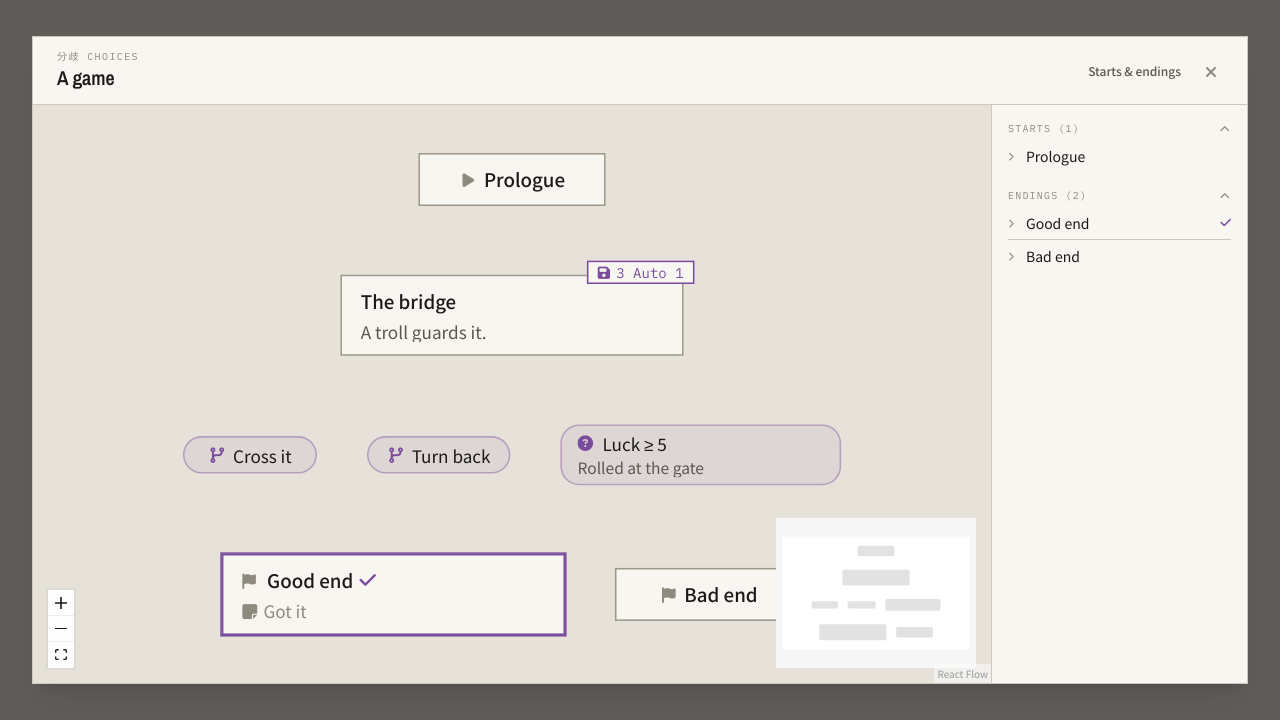
Test case: ChoiceGraphModal › opens a branch from its pill or from its block's drawer
Click the element with test id "choice-branch-b-luck": [701, 455] box [560, 424, 841, 485]
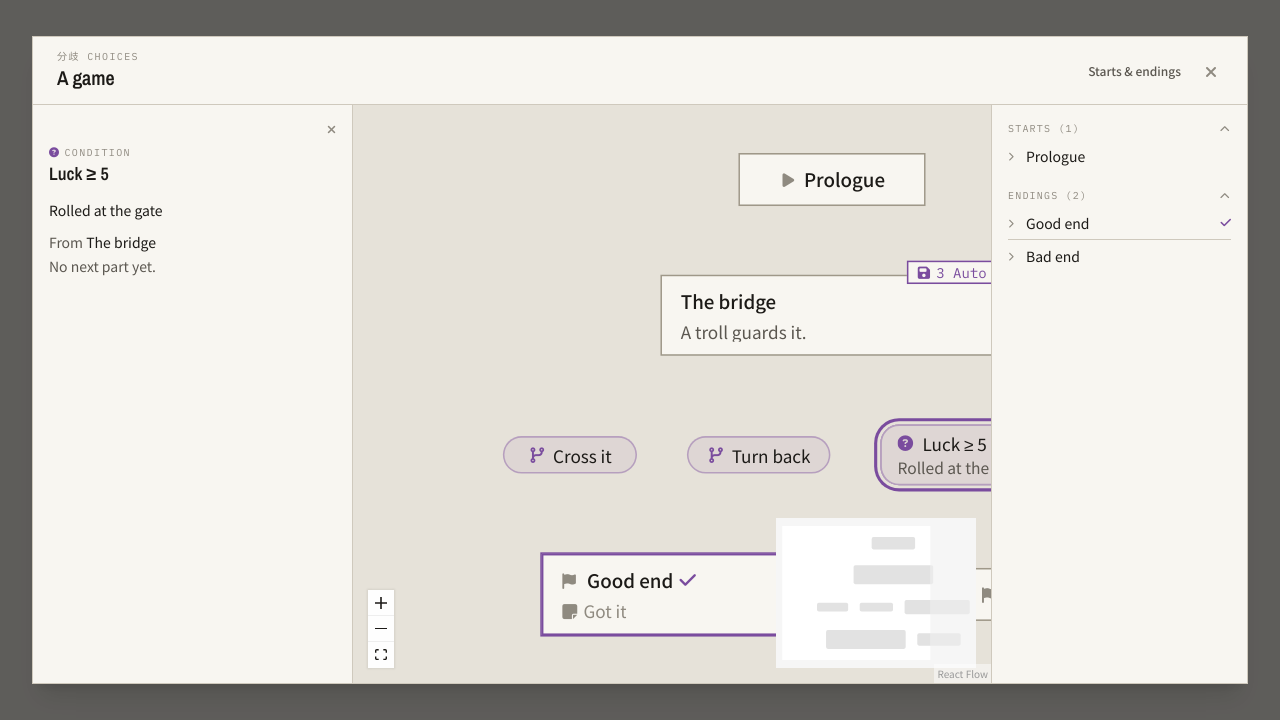
expect the text "Condition" is shown: met, box [49, 146, 131, 159]
expect the heading "Luck ≥ 5" is shown: met, box [49, 161, 109, 186]
expect the text "Rolled at the gate" is shown: met, box [49, 200, 162, 220]
Click the element with test id "choice-node-n-bridge": [832, 315] box [660, 275, 1004, 356]
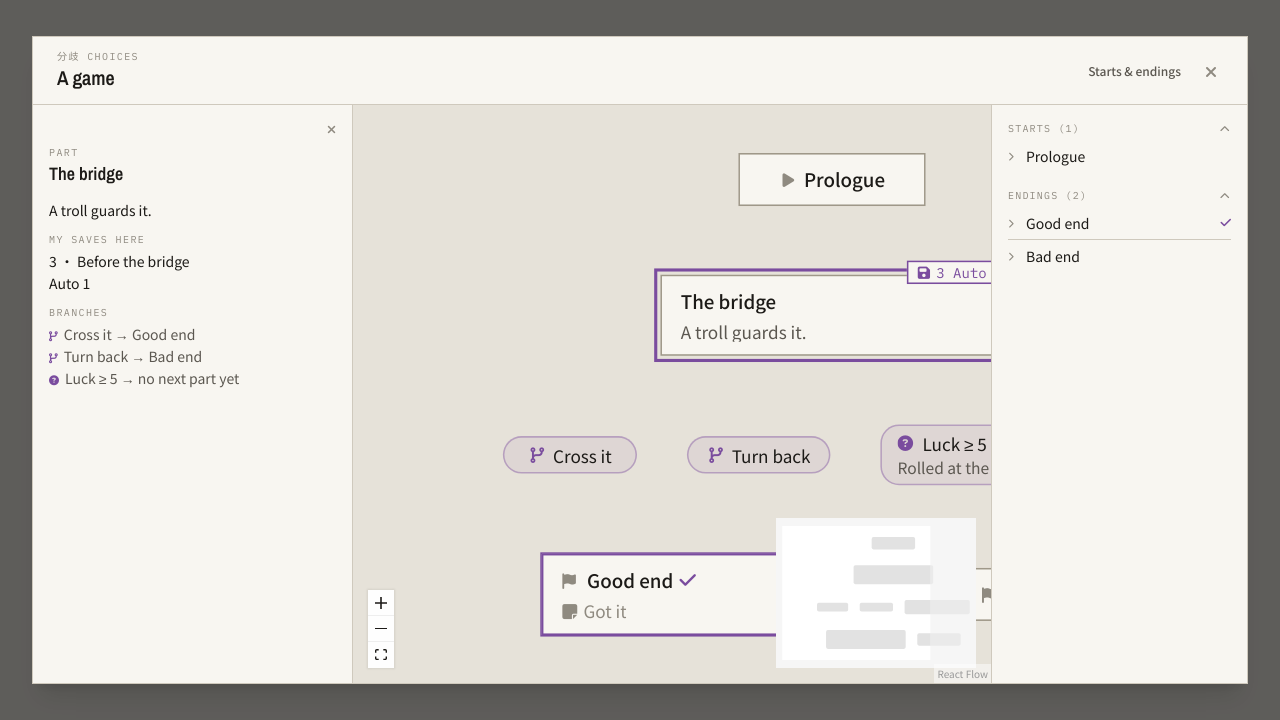
Click the button "Cross it → Good end": [130, 334] box [64, 324, 195, 344]
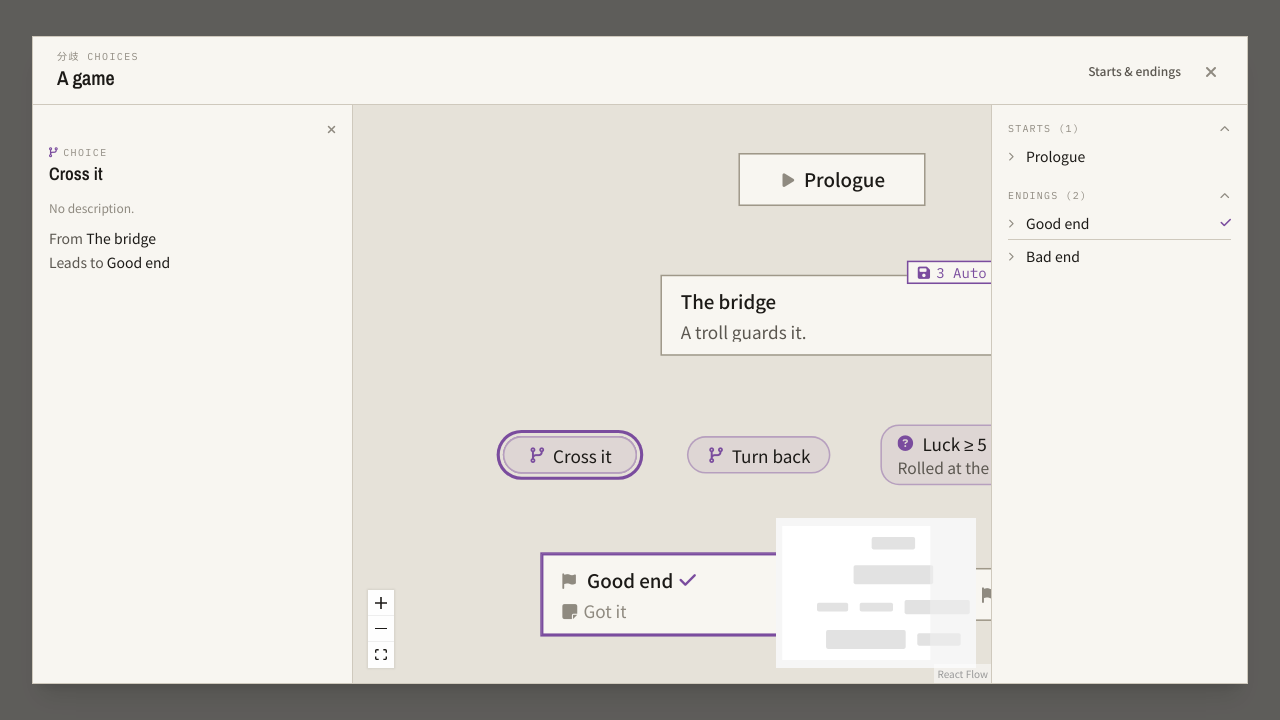
expect the element with test id "branch-next" reads "Leads to Good end": met, box [49, 252, 170, 272]
